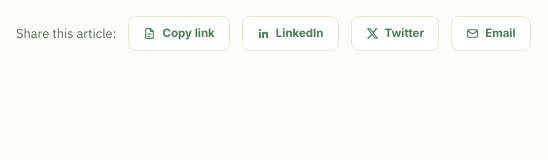
Test: ShareRow (story-blog-08) › copies the canonical URL and shows a transient confirmation (AC#2)
Click the button with aria-label "Copy link to this article". click: click(179, 34)
box: [128,16,230,51]
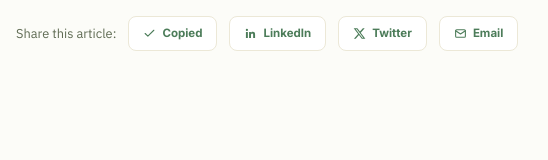
Check: the button with aria-label "Copy link to this article" reads "Copied", box [128,16,218,51]
